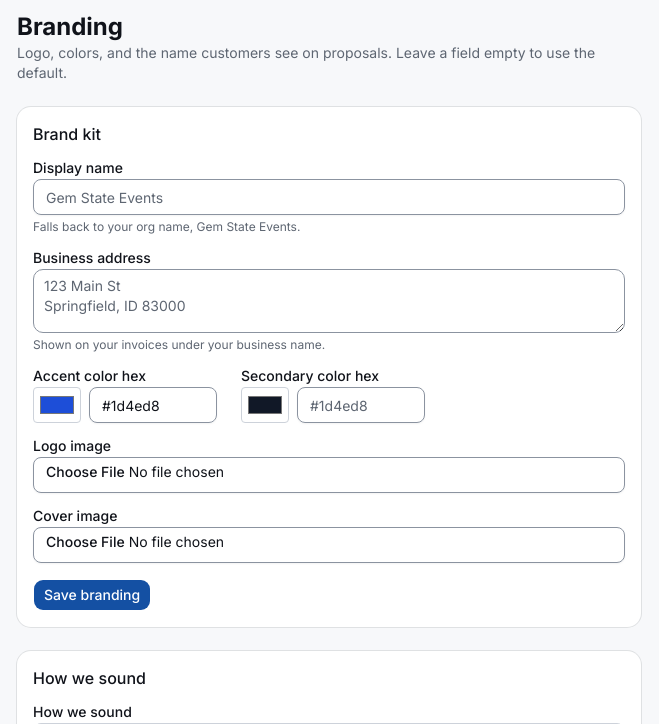
Test: BrandingClient › surfaces a validation error from the action
In the field labelled "Accent color hex": [153, 405] box [89,387,217,423], type "#zz0000"
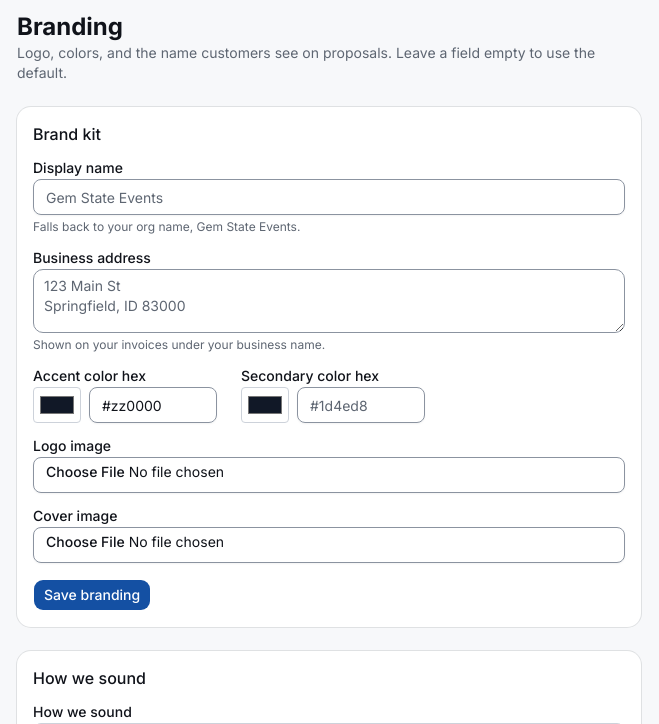
Click the button "Save branding": [92, 595] box [33,579,151,611]
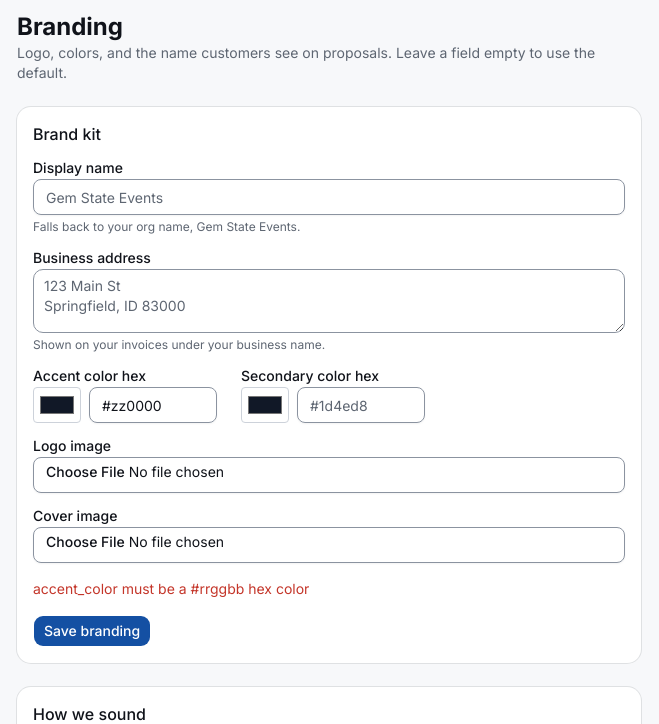
expect the text "accent_color must be a #rrggbb hex color" is shown: met, box [33,580,309,597]
